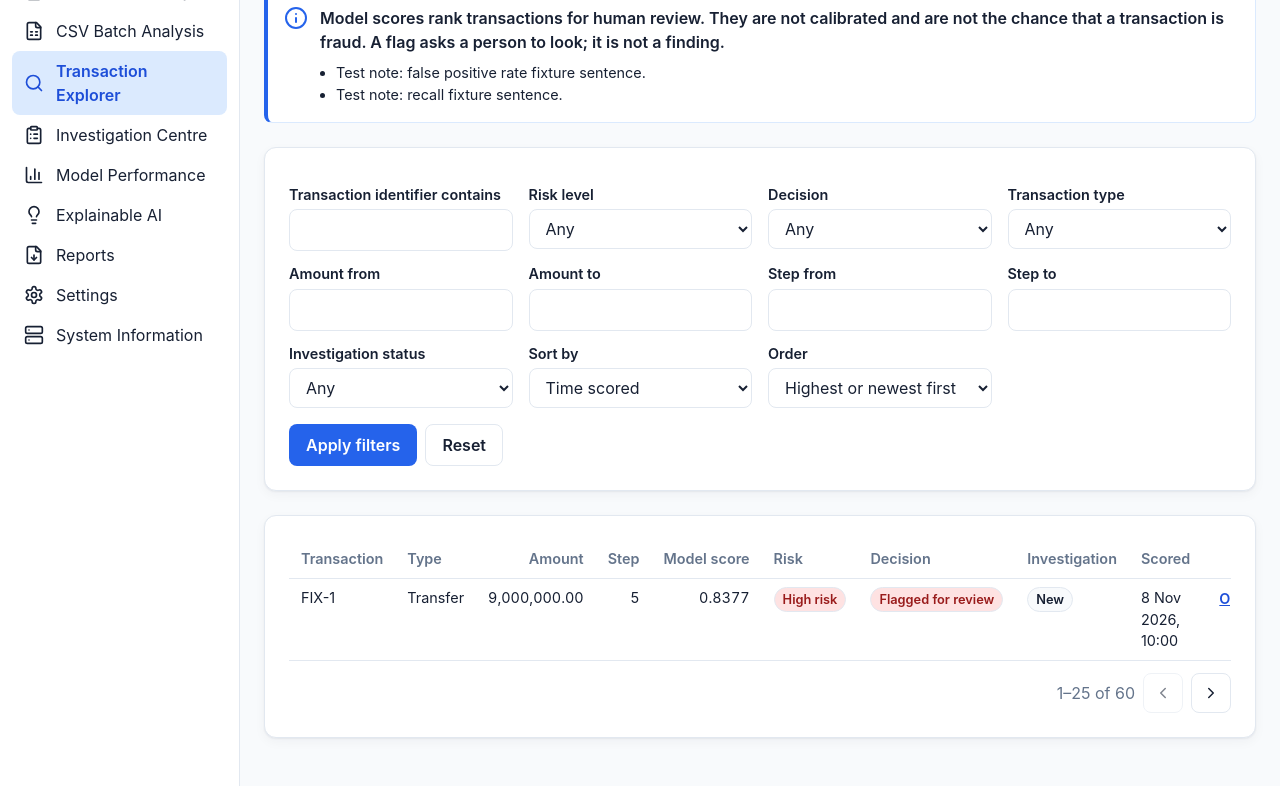
Test: transaction explorer › pages through results
(page scrolled)
Expected: the text "1–25 of 60" is shown, [1057,681,1135,705]
Click the button named "Next page".
click(1211, 693)  # box [1191,673,1231,713]
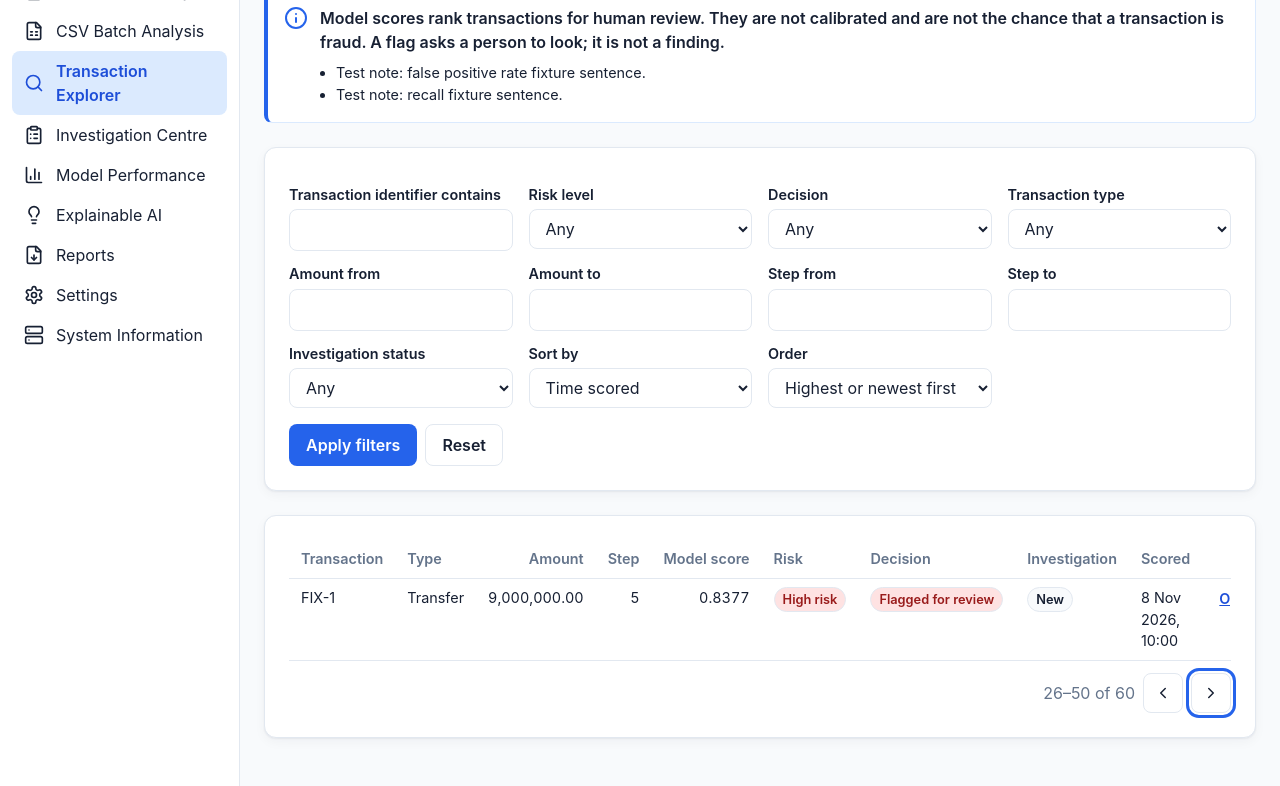
Result: the text "26–50 of 60" is shown at [1043,681,1135,705]
